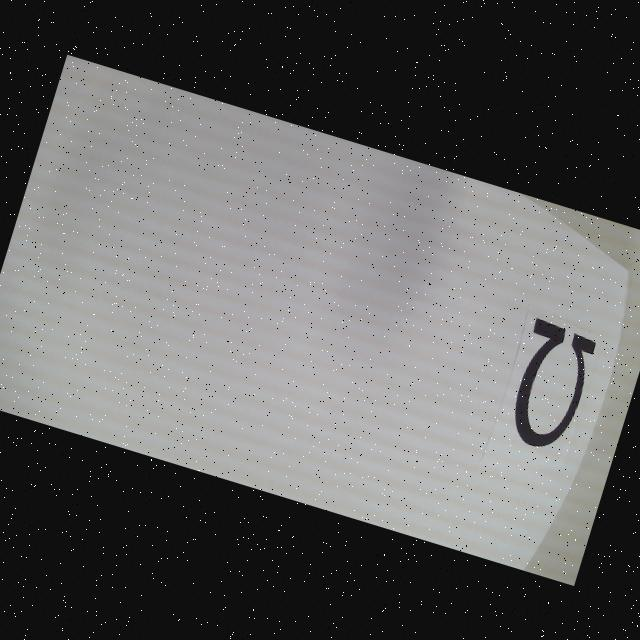OMEGA: (500, 316, 600, 454)
